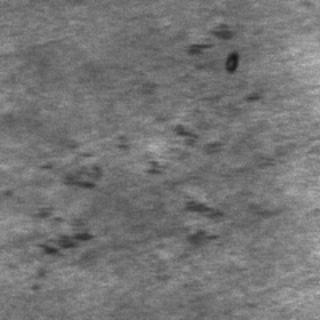rolled pit: (132, 110, 248, 262), (21, 112, 109, 278)
